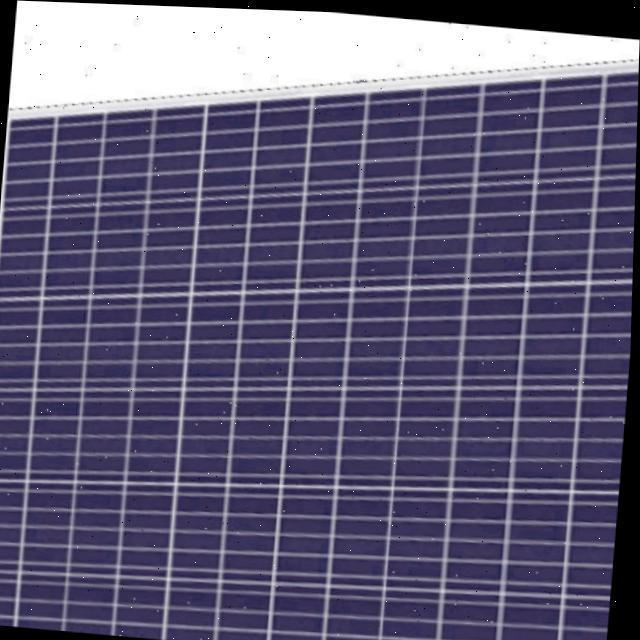Normal Solar Panel: (0, 14, 639, 640)
